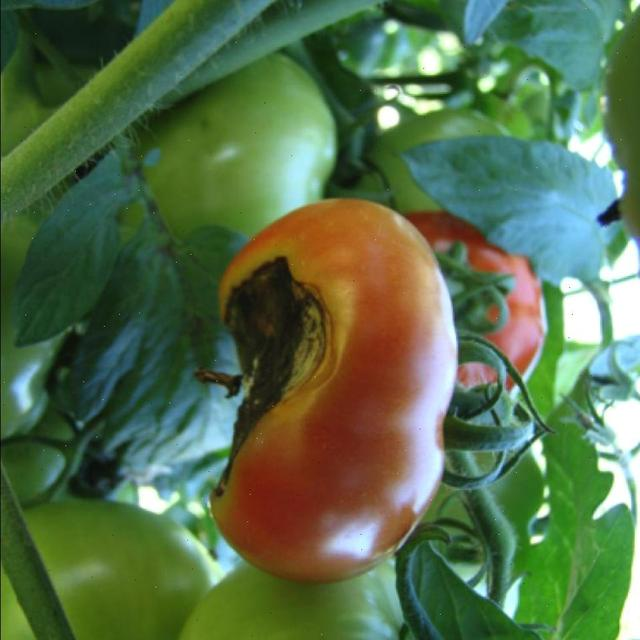Healthy Fruit: (272, 144, 363, 279)
